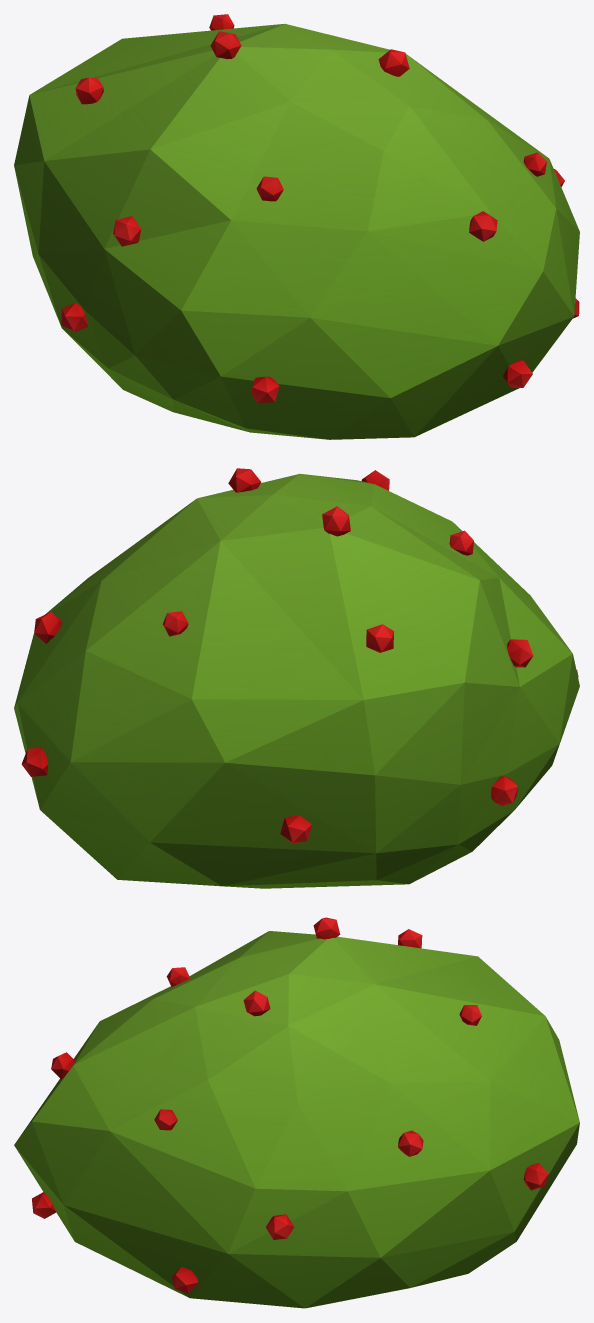
Rendered from Bush_05.fbx.
3 renders of one model, top to bottom at view 1: azimuth 30°, elevation 25°; view 2: azimuth 150°, elevation 25°; view 3: azimuth 270°, elevation 25°, orthographic. The views are drawn at different scales.
Visible parts, largest first — view 1: Bush_05; view 2: Bush_05; view 3: Bush_05.
Part boxes in pixels (left/top/right/bottom): Bush_05: left=14, top=14, right=579, bottom=439; Bush_05: left=14, top=468, right=579, bottom=888; Bush_05: left=14, top=917, right=579, bottom=1308.
Size of the model in its own units: 147 by 99.1 by 169.
